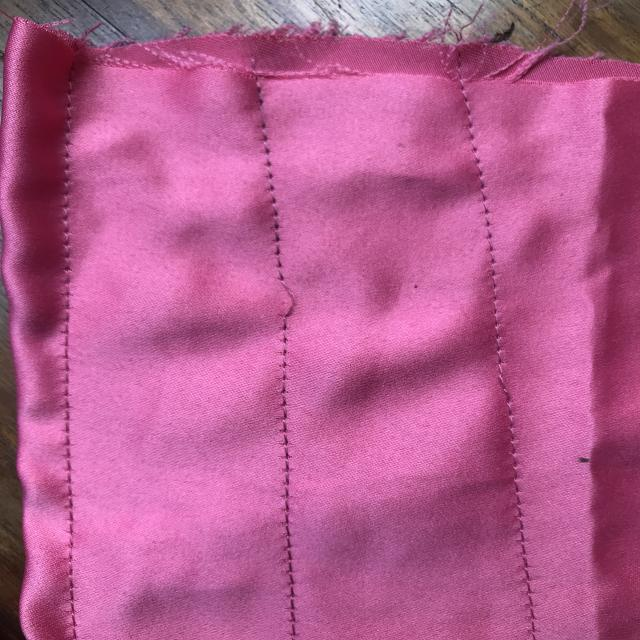good: (269, 382, 301, 490)
skip: (256, 268, 315, 327)
